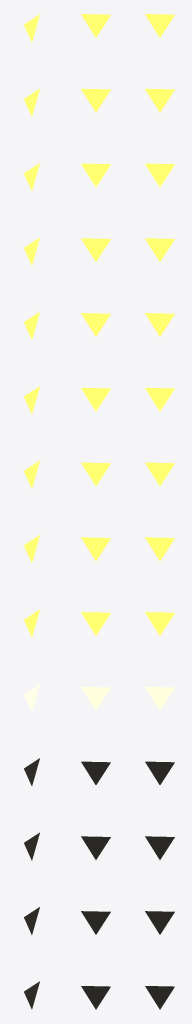
File: spine.glb
The picture shows the model from 3 angles, left to right: view 1: azimuth 30°, elevation 25°; view 2: azimuth 150°, elevation 25°; view 3: azimuth 330°, elevation 25°; orthographic projection.
Visible parts, largest first — view 1: ota_chev_6, ota_chev_1, ota_chev_2, ota_chev_3, ota_chev_9, ota_chev_11, ota_chev_0, ota_chev_4, ota_chev_7, ota_chev_8, ota_chev_10, ota_chev_12 (+2 smaller); view 2: ota_chev_3, ota_chev_7, ota_chev_11, ota_chev_12, ota_chev_0, ota_chev_4, ota_chev_8, ota_chev_2, ota_chev_6, ota_chev_10, ota_chev_1, ota_chev_5 (+2 smaller); view 3: ota_chev_3, ota_chev_7, ota_chev_11, ota_chev_12, ota_chev_0, ota_chev_4, ota_chev_8, ota_chev_2, ota_chev_6, ota_chev_10, ota_chev_1, ota_chev_5 (+2 smaller).
Part boxes in pixels (x1=…): ota_chev_6: x1=24, y1=460, x2=39, y2=488; ota_chev_1: x1=24, y1=89, x2=39, y2=116; ota_chev_2: x1=24, y1=163, x2=39, y2=190; ota_chev_3: x1=24, y1=237, x2=39, y2=265; ota_chev_9: x1=24, y1=684, x2=39, y2=711; ota_chev_11: x1=24, y1=832, x2=39, y2=860; ota_chev_0: x1=24, y1=14, x2=39, y2=42; ota_chev_4: x1=24, y1=312, x2=39, y2=339; ota_chev_7: x1=24, y1=535, x2=39, y2=562; ota_chev_8: x1=24, y1=609, x2=39, y2=637; ota_chev_10: x1=24, y1=758, x2=39, y2=785; ota_chev_12: x1=24, y1=907, x2=39, y2=934; ota_chev_3: x1=81, y1=238, x2=110, y2=261; ota_chev_7: x1=81, y1=537, x2=110, y2=560; ota_chev_11: x1=81, y1=836, x2=110, y2=859; ota_chev_12: x1=81, y1=911, x2=110, y2=934; ota_chev_0: x1=81, y1=14, x2=110, y2=37; ota_chev_4: x1=81, y1=313, x2=110, y2=336; ota_chev_8: x1=81, y1=612, x2=110, y2=635; ota_chev_2: x1=81, y1=163, x2=110, y2=186; ota_chev_6: x1=81, y1=462, x2=110, y2=485; ota_chev_10: x1=81, y1=761, x2=110, y2=784; ota_chev_1: x1=81, y1=88, x2=110, y2=112; ota_chev_5: x1=81, y1=387, x2=110, y2=411; ota_chev_3: x1=145, y1=238, x2=174, y2=261; ota_chev_7: x1=145, y1=537, x2=174, y2=560; ota_chev_11: x1=145, y1=836, x2=174, y2=859; ota_chev_12: x1=145, y1=911, x2=174, y2=934; ota_chev_0: x1=145, y1=14, x2=174, y2=37; ota_chev_4: x1=145, y1=313, x2=174, y2=336; ota_chev_8: x1=145, y1=612, x2=174, y2=635; ota_chev_2: x1=145, y1=163, x2=174, y2=186; ota_chev_6: x1=145, y1=462, x2=174, y2=485; ota_chev_10: x1=145, y1=761, x2=174, y2=784; ota_chev_1: x1=145, y1=88, x2=174, y2=112; ota_chev_5: x1=145, y1=387, x2=174, y2=411.
Bounding box in the file's own units: 0.0098 × 0.3975 × 0.00499.
